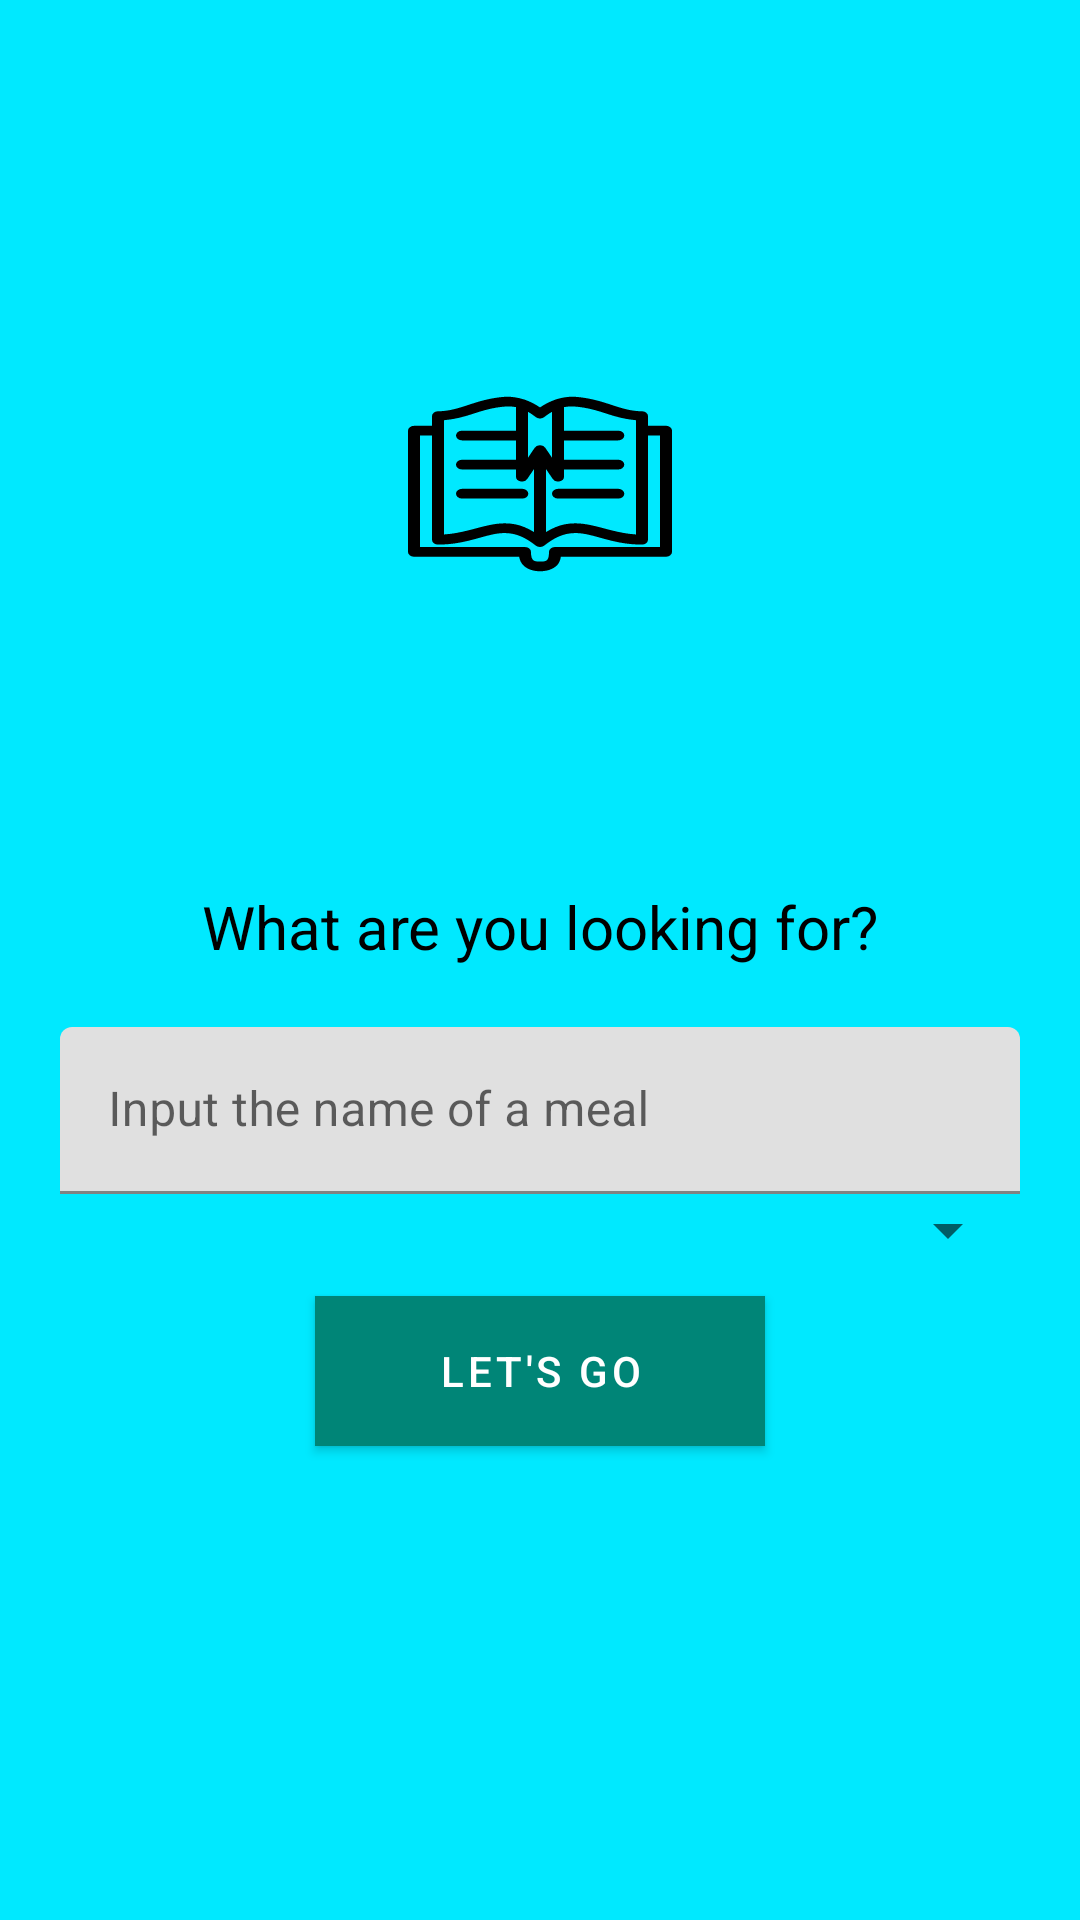

Screen size 1080×1920. Icon name, then its box in pixels as (x1, y1, x2, y2):
noun recipe book: (408, 396, 672, 572)
